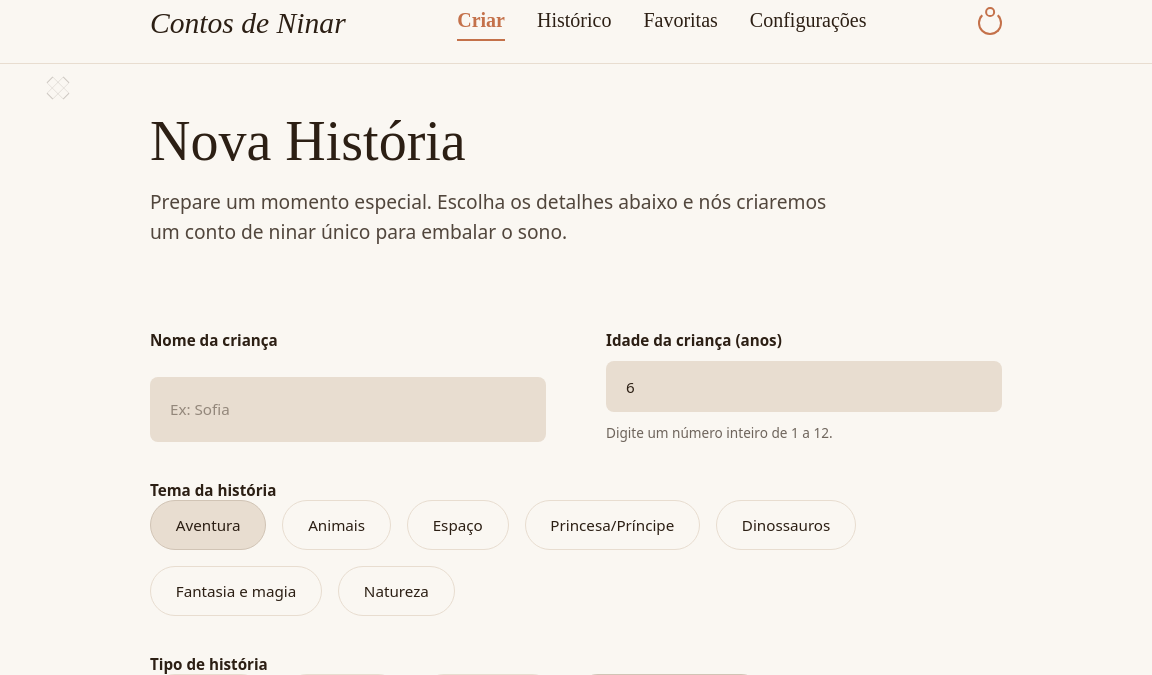
Scenario: User settings › stores current reader defaults on newly generated stories without mutating creation params
The width and height of the screenshot is (1152, 675).
Type "Luna" into the field labelled "Nome da criança".
click(348, 409); type("Luna")  # box x1=150 y1=377 x2=546 y2=442
(page scrolled)
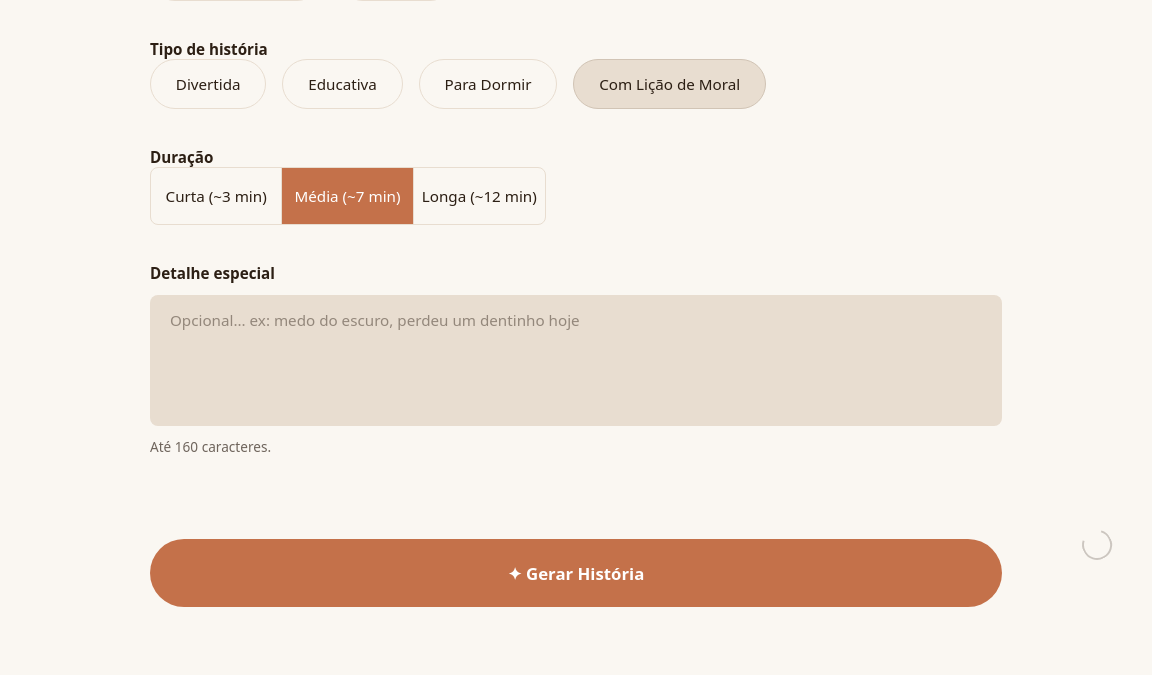
Click the button "✦ Gerar História".
click(576, 573)  # box x1=150 y1=539 x2=1002 y2=607
(page scrolled)
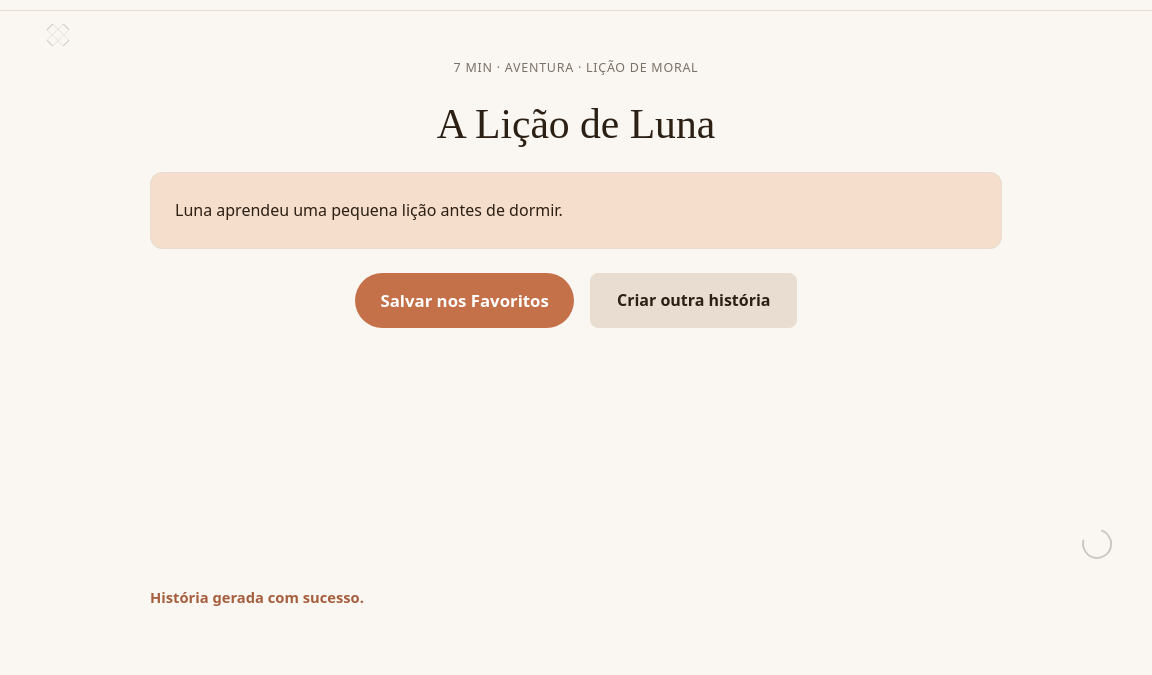
Expected: the heading "A Lição de Luna" is shown, x1=437 y1=100 x2=715 y2=148
